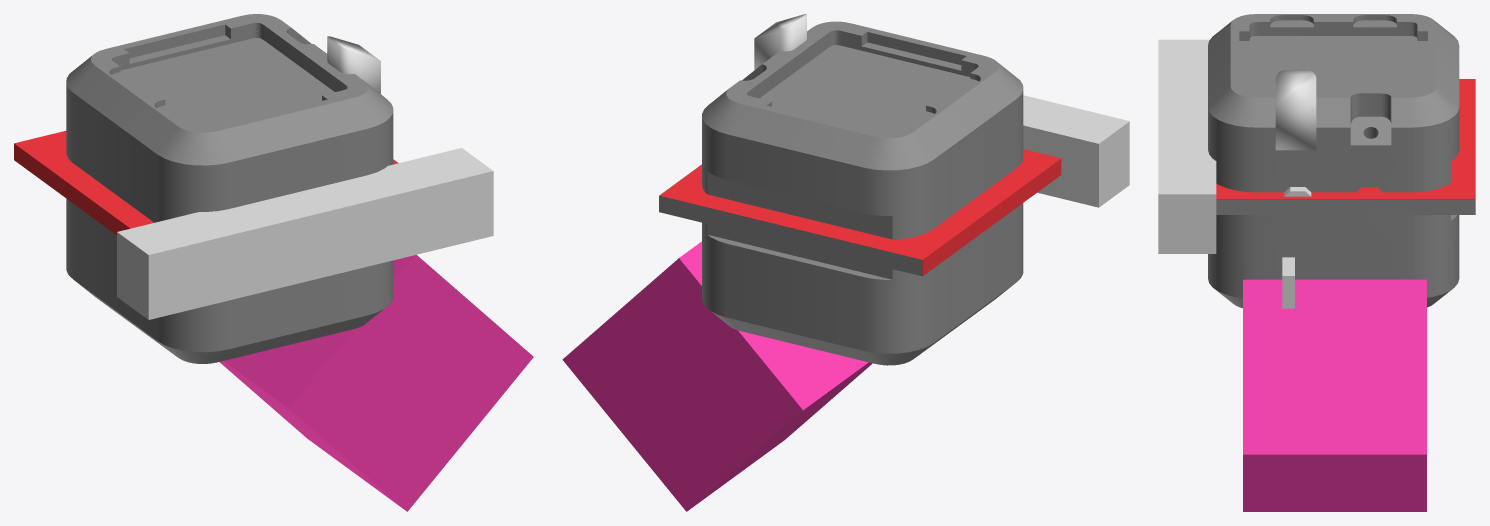
The model's file is Bomb.glb.
3 renders of one model, left to right at view 1: azimuth 30°, elevation 25°; view 2: azimuth 150°, elevation 25°; view 3: azimuth 270°, elevation 25°, orthographic. The views are drawn at different scales.
Visible parts, largest first — view 1: CUBE, Cube.001, long reactangle ide.001, long reactangle ide.002, slice.002, Leany cut; view 2: CUBE, Cube.001, slice.002, long reactangle ide.002, slice, long reactangle ide, Leany cut; view 3: CUBE, Cube.001, long reactangle ide.002, slice.002, slice, long reactangle ide, Leany cut, long reactangle ide.001, flat squeer.
Boxes of the visible parts, left/top/right/bottom form: CUBE: left=66, top=14, right=393, bottom=363; Cube.001: left=219, top=255, right=533, bottom=511; long reactangle ide.001: left=148, top=157, right=493, bottom=319; long reactangle ide.002: left=117, top=148, right=492, bottom=319; slice.002: left=14, top=130, right=397, bottom=235; Leany cut: left=327, top=36, right=380, bottom=93; CUBE: left=702, top=21, right=1023, bottom=365; Cube.001: left=562, top=241, right=872, bottom=511; slice.002: left=660, top=149, right=1061, bottom=276; long reactangle ide.002: left=1023, top=95, right=1129, bottom=207; slice: left=659, top=164, right=922, bottom=276; long reactangle ide: left=1023, top=125, right=1098, bottom=207; Leany cut: left=754, top=14, right=806, bottom=69; CUBE: left=1208, top=14, right=1459, bottom=308; Cube.001: left=1243, top=279, right=1426, bottom=511; long reactangle ide.002: left=1159, top=39, right=1216, bottom=194; slice.002: left=1216, top=79, right=1475, bottom=199; slice: left=1216, top=199, right=1475, bottom=214; long reactangle ide: left=1159, top=194, right=1216, bottom=253; Leany cut: left=1275, top=70, right=1316, bottom=150; long reactangle ide.001: left=1158, top=40, right=1215, bottom=253; flat squeer: left=1282, top=257, right=1294, bottom=308.
Bounding box in the file's own units: 4.98 × 5.06 × 3.45.
